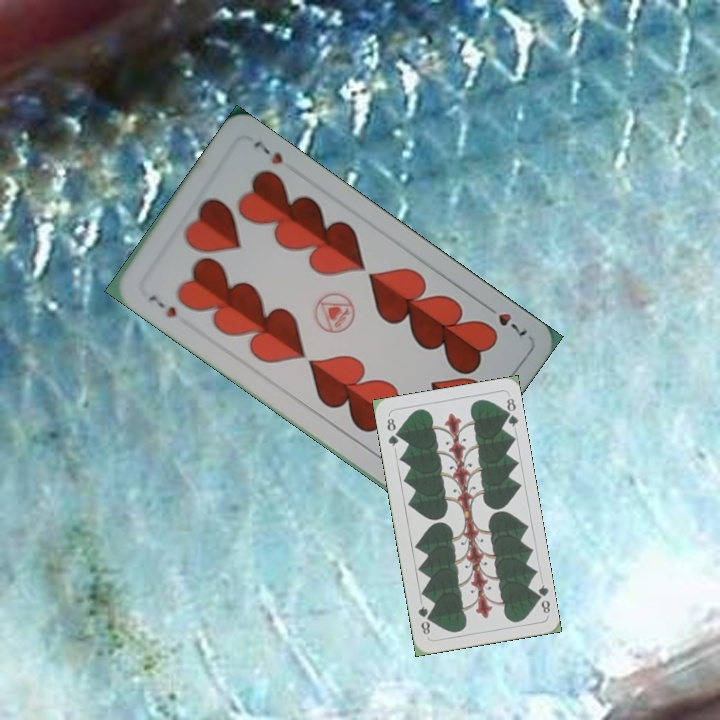G8: (530, 581, 553, 616), (383, 414, 401, 449)
H7: (480, 300, 530, 341), (145, 290, 180, 321)
